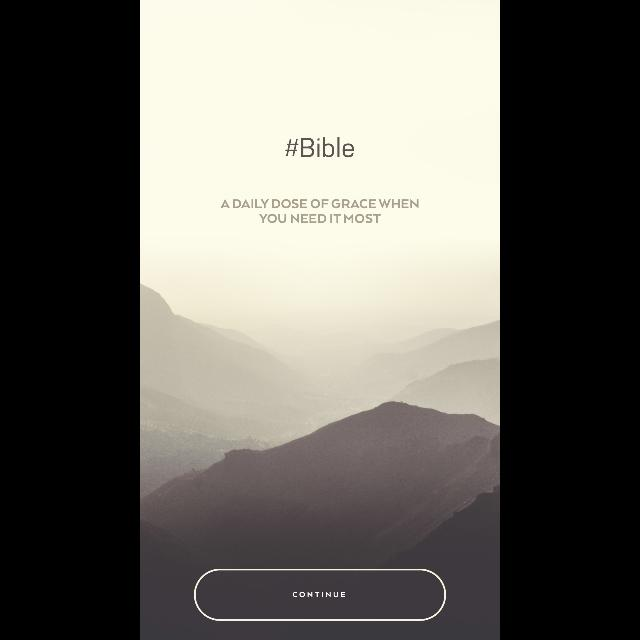backgroundimage: (140, 1, 500, 640)
text: (221, 199, 419, 223), (286, 136, 354, 158)
textbutton: (194, 569, 446, 621)
